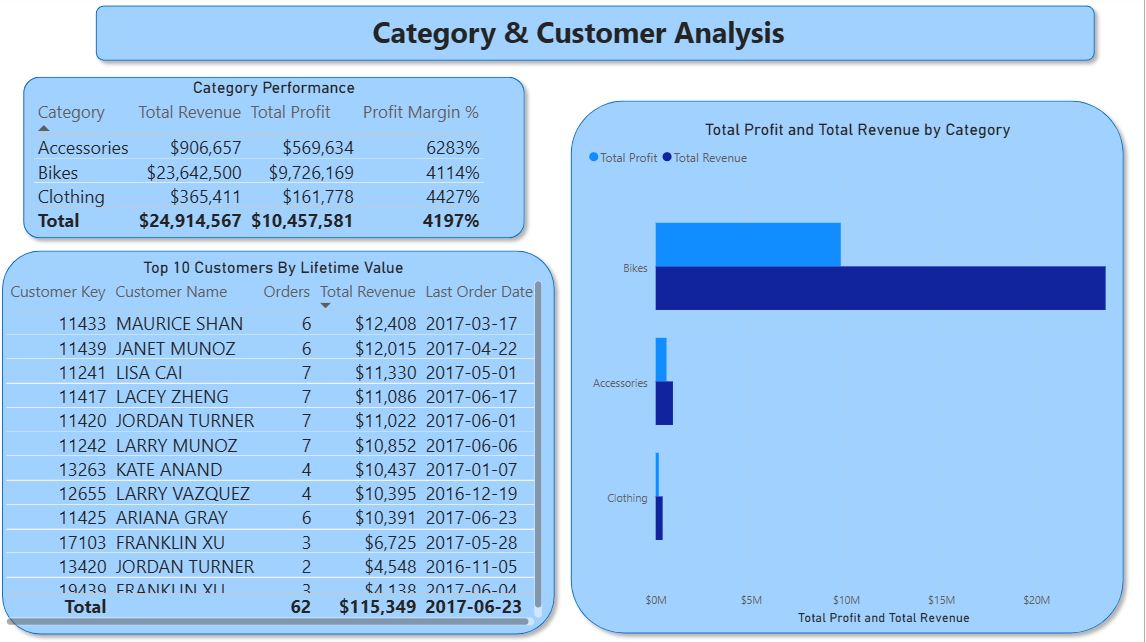

Layout of this report page (visuals, bound fields, positions):
{"tool":"powerbi","page":{"name":"Part 2","canvas":[1280,720],"ordinal":1},"visuals":[{"type":"shape","box":[104.3,2.8,1129.7,79.3],"z":0},{"type":"shape","box":[633.2,108.9,633.2,611.1],"z":1000},{"type":"shape","box":[0,275.5,633,445.2],"z":2000},{"type":"shape","box":[23.7,82.1,576,197.6],"z":3000},{"type":"tableEx","title":"Category Performance","fields":{"Values":["product_categories.category_name","_Measures.Total Revenue","_Measures.Total Profit","_Measures.Profit Margin %"]},"box":[37.6,91.8,548.2,183.7],"z":4000},{"type":"clusteredBarChart","fields":{"Category":["product_categories.category_name"],"Y":["_Measures.Total Profit","_Measures.Total Revenue"]},"box":[657,139.6,609.4,566.8],"z":5000},{"type":"tableEx","title":"Top 10 Customers By Lifetime Value","fields":{"Values":["customers.customer_key","customers.Customer Full Name","sales.order_number","_Measures.Total Revenue","_Measures.Last Order Date"]},"box":[7,292.2,608,414.6],"z":6000},{"type":"textbox","box":[104.3,13.9,1092.2,52.9],"z":7000}]}

Visuals, with their boxes in screenshot pixels (x1, y1, x2, y2), scaled from the page's 1280x720 canvas onto the 1146x642 screenshot:
shape: (93,2,1105,73)
shape: (567,97,1134,641)
shape: (0,246,567,641)
shape: (21,73,537,249)
"Category Performance" tableEx: (34,82,524,246)
clusteredBarChart - product_categories.category_name x _Measures.Total Profit: (588,124,1134,630)
"Top 10 Customers By Lifetime Value" tableEx: (6,261,551,630)
textbox: (93,12,1071,60)
